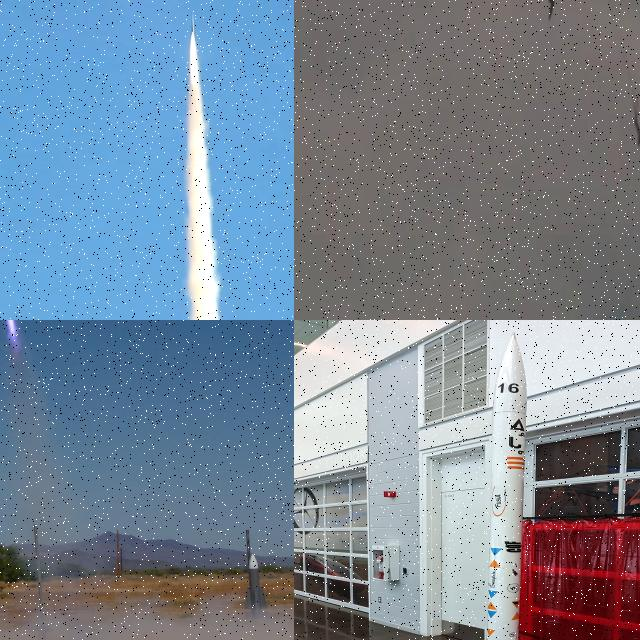Rocket: (486, 332, 527, 640), (244, 553, 270, 620), (635, 121, 640, 146), (191, 12, 195, 32)
